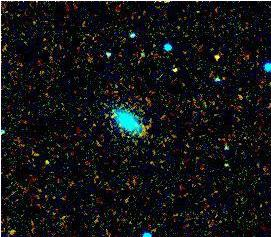star: (160, 58, 190, 88)
